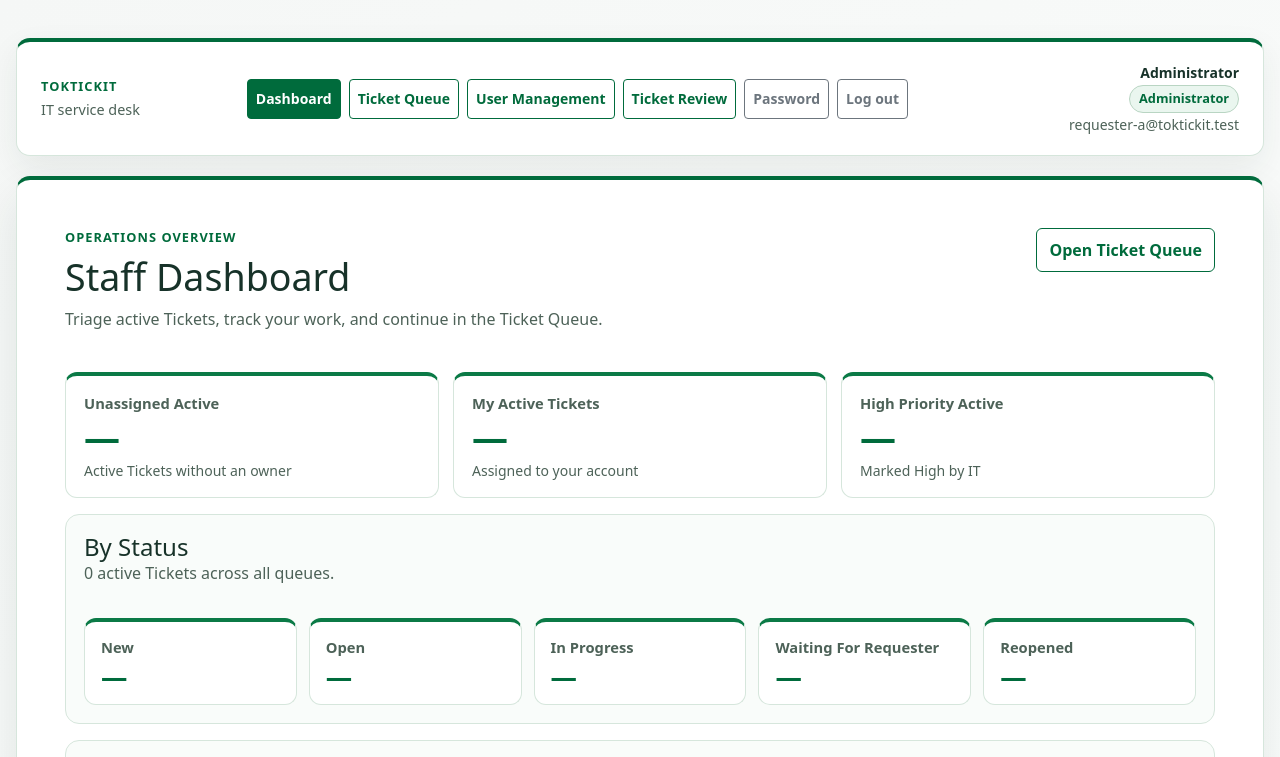
Test: Lab 3 authenticated application shell › offers User Management only to an Administrator
Expected: the heading "Staff Dashboard" is shown, [65,251,350,302]
Click the button "User Management" at (541, 99), box [467,79,615,119]
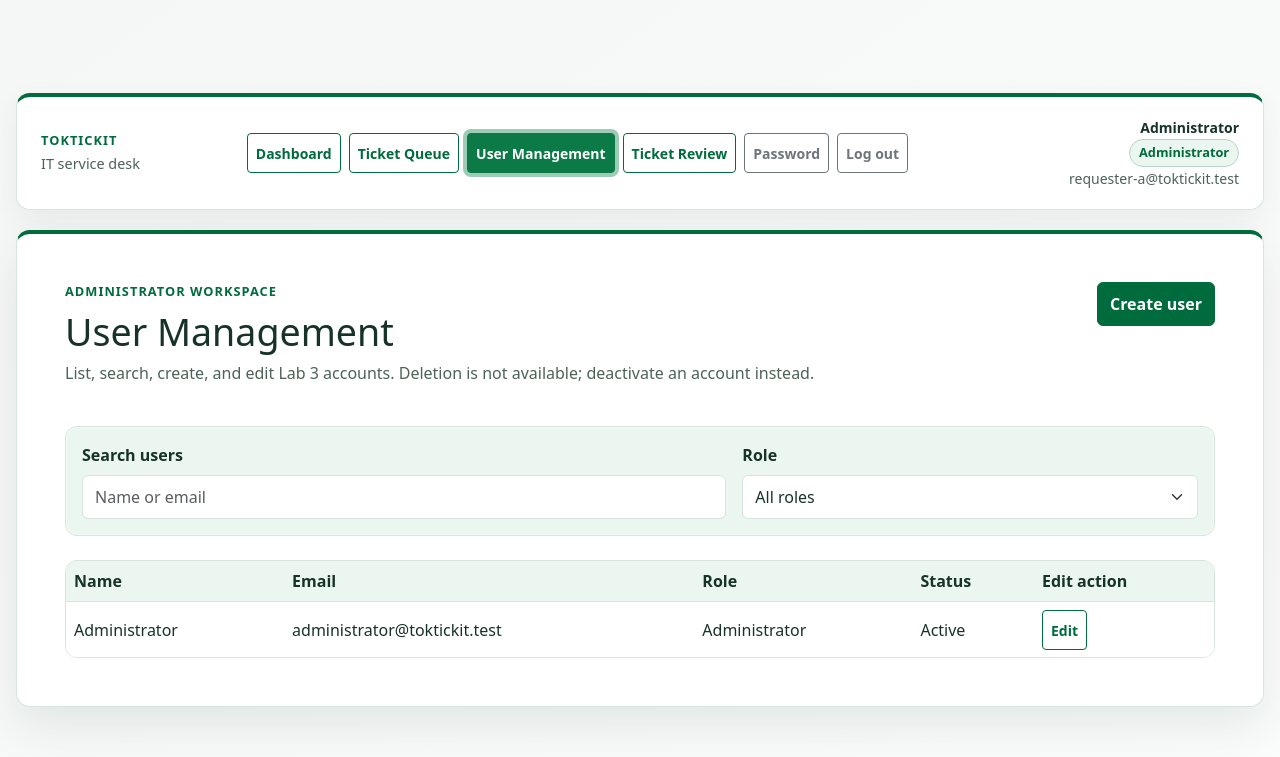
Expected: the button "Ticket Review" is shown, [623,133,736,173]
Now the heading "User Management" is shown, box [65,306,394,357]
